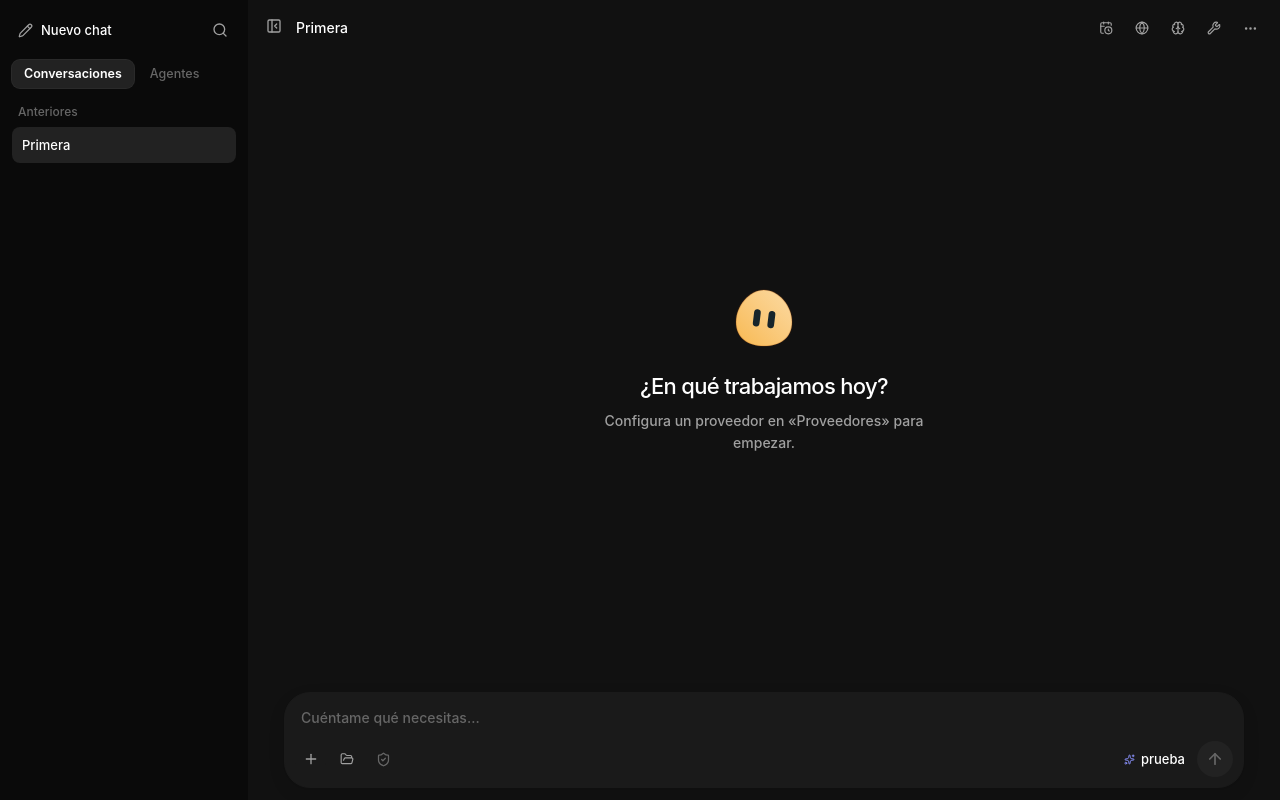
Test case: sugiere conectores y servidores MCP con @ e inserta la mención que habilita sus herramientas
In the text box named "Mensaje para el agente": (764, 723) [301,705,1227,741], type "Revisa @gma"
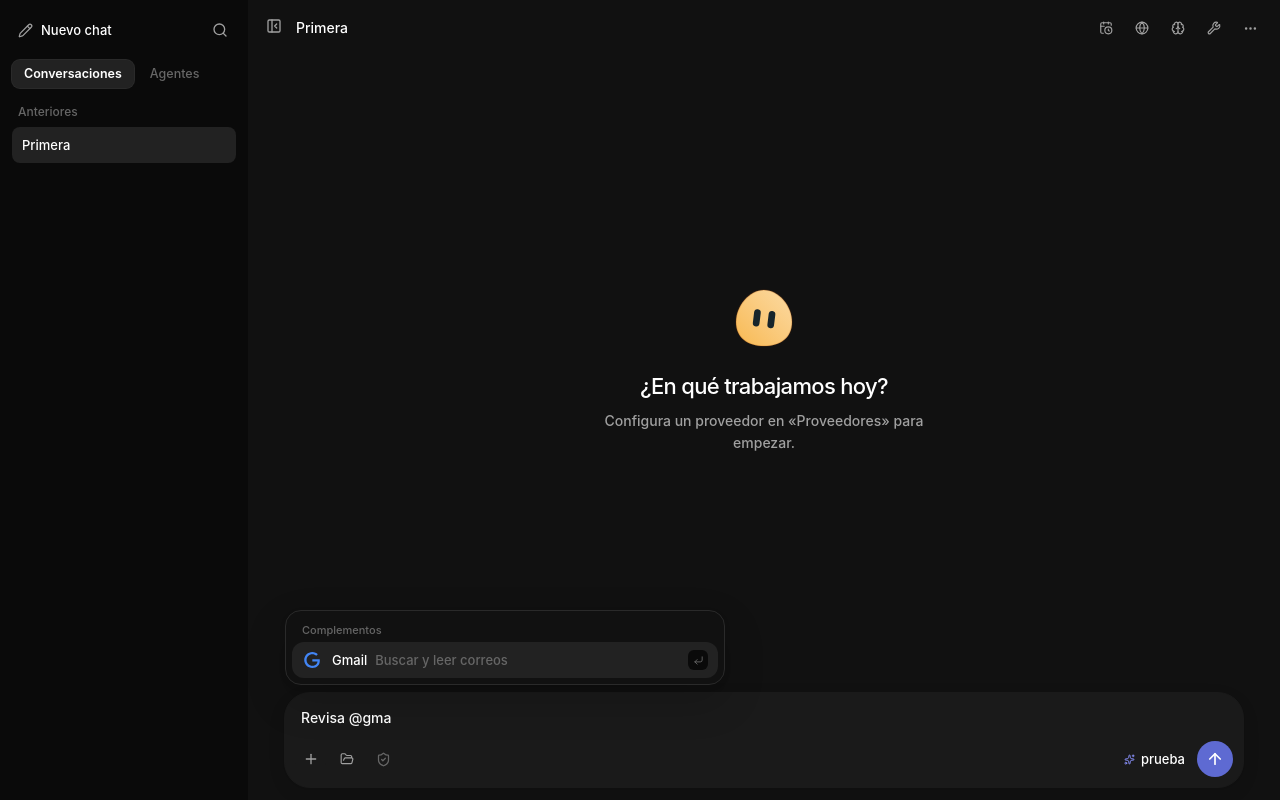
Press Enter in the text box named "Mensaje para el agente", box [301,705,1227,741]
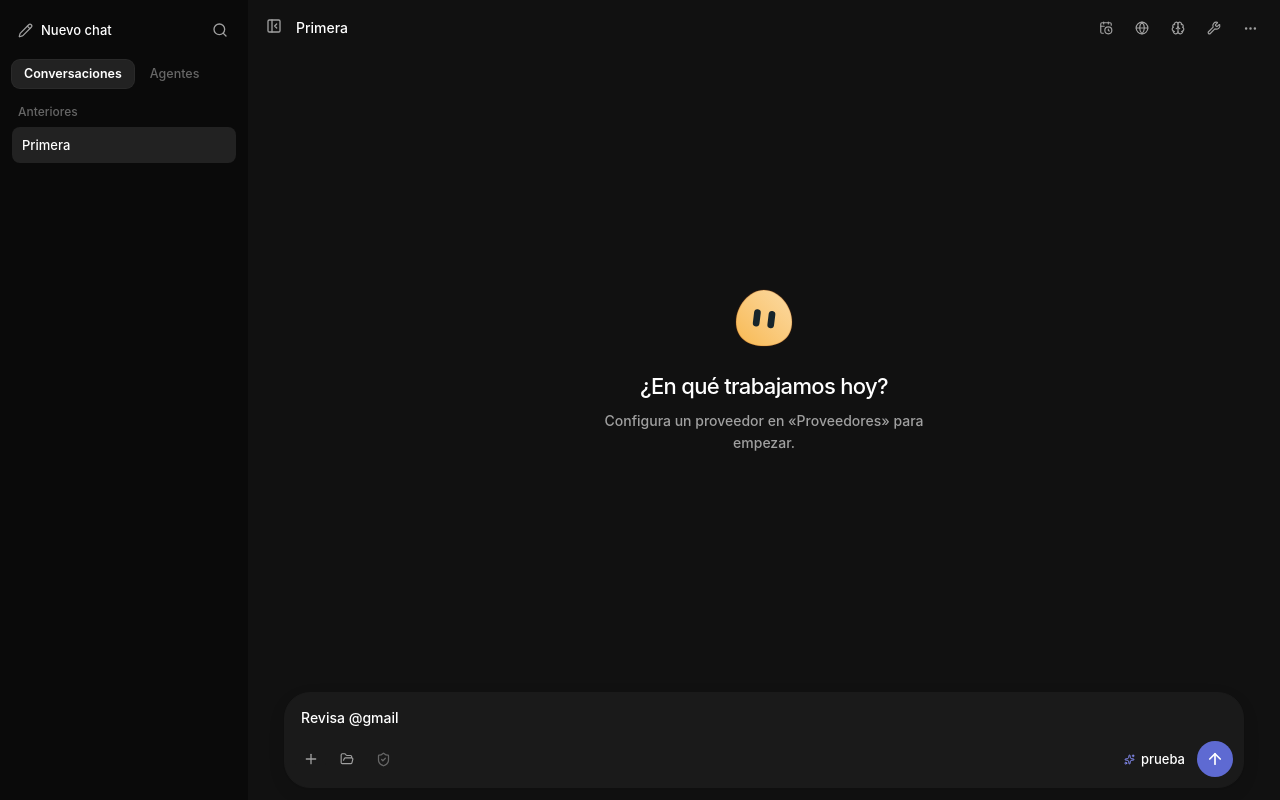
expect the text box named "Mensaje para el agente" holds "Revisa @gmail ": met
Replace the text in the text box named "Mensaje para el agente" with "Busca con @mi": (764, 723) [301,705,1227,741]
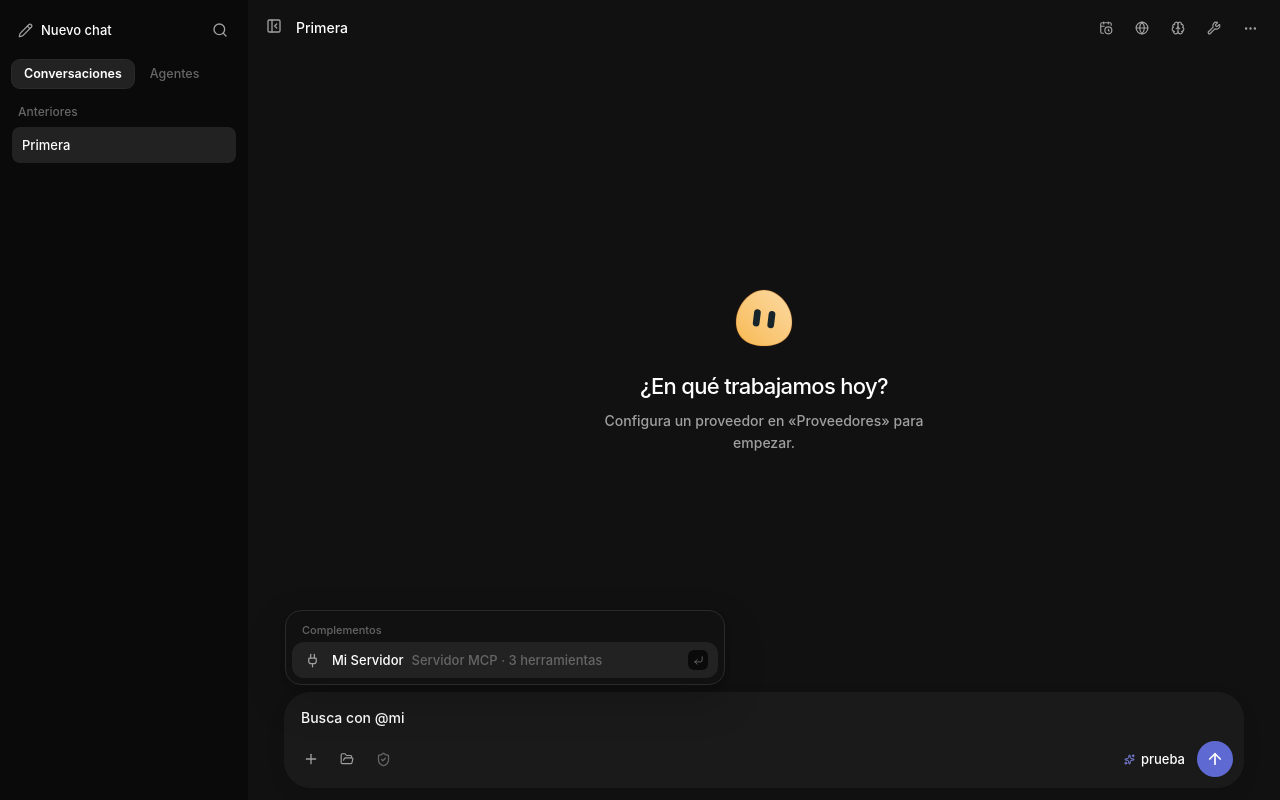
expect the option is shown: met, box [292,642,718,678]
Press Tab in the text box named "Mensaje para el agente", box [301,705,1227,741]
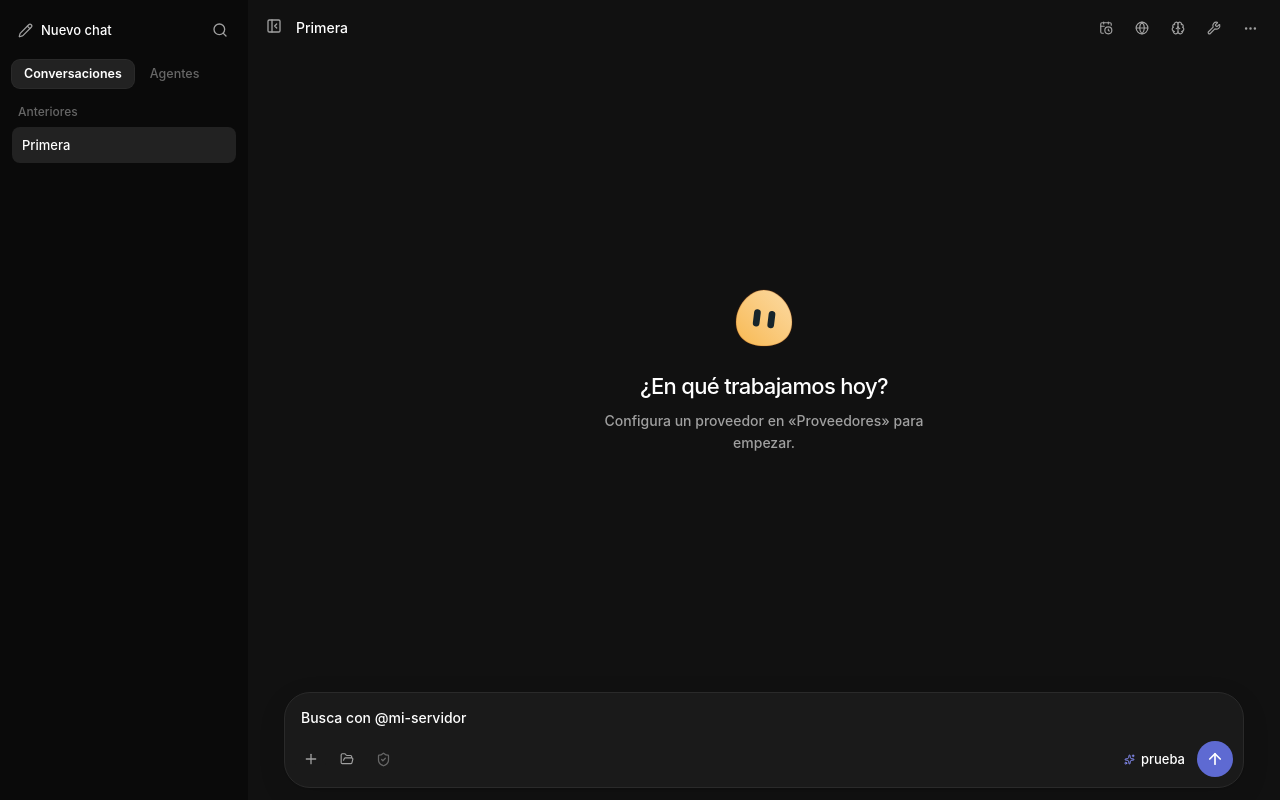
expect the text box named "Mensaje para el agente" holds "Busca con @mi-servidor ": met, box [301,705,1227,741]
